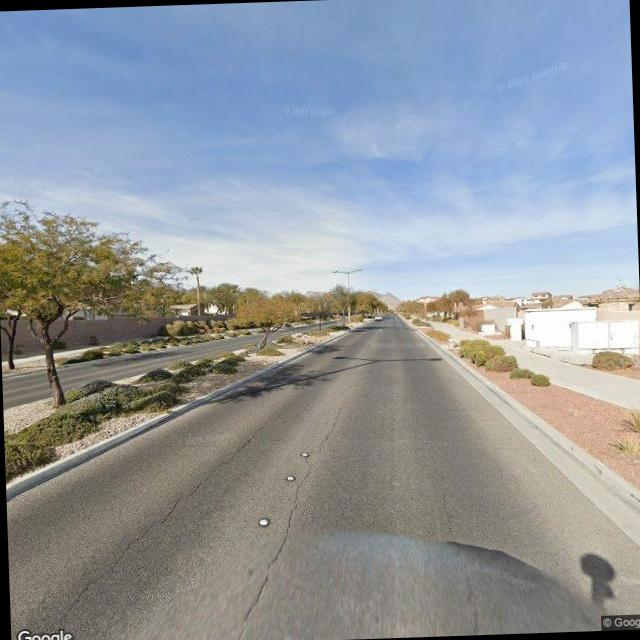pothole: (49, 423, 271, 620), (242, 394, 355, 611), (435, 452, 477, 635)
